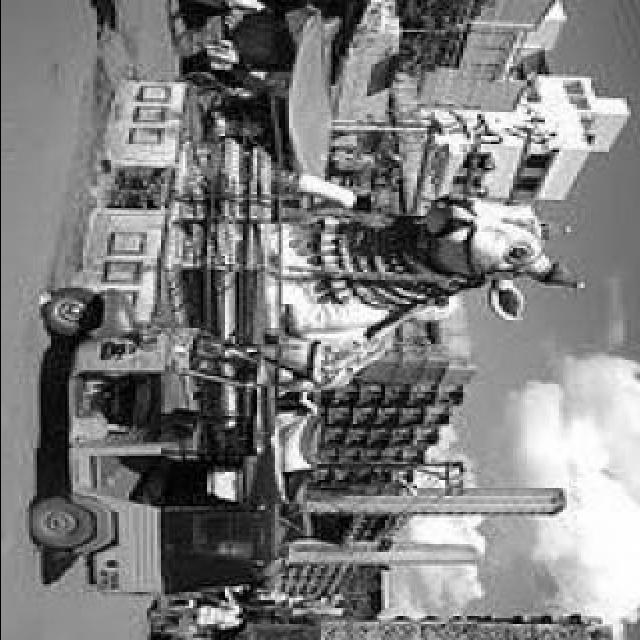Autorickshaw: (4, 300, 286, 628)
